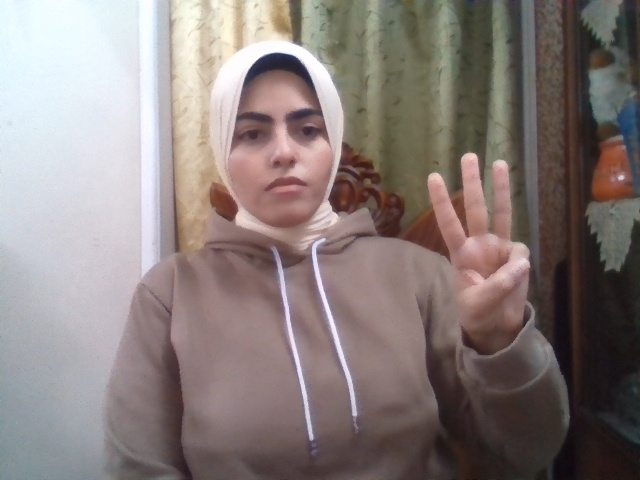W: (428, 152, 531, 334)
